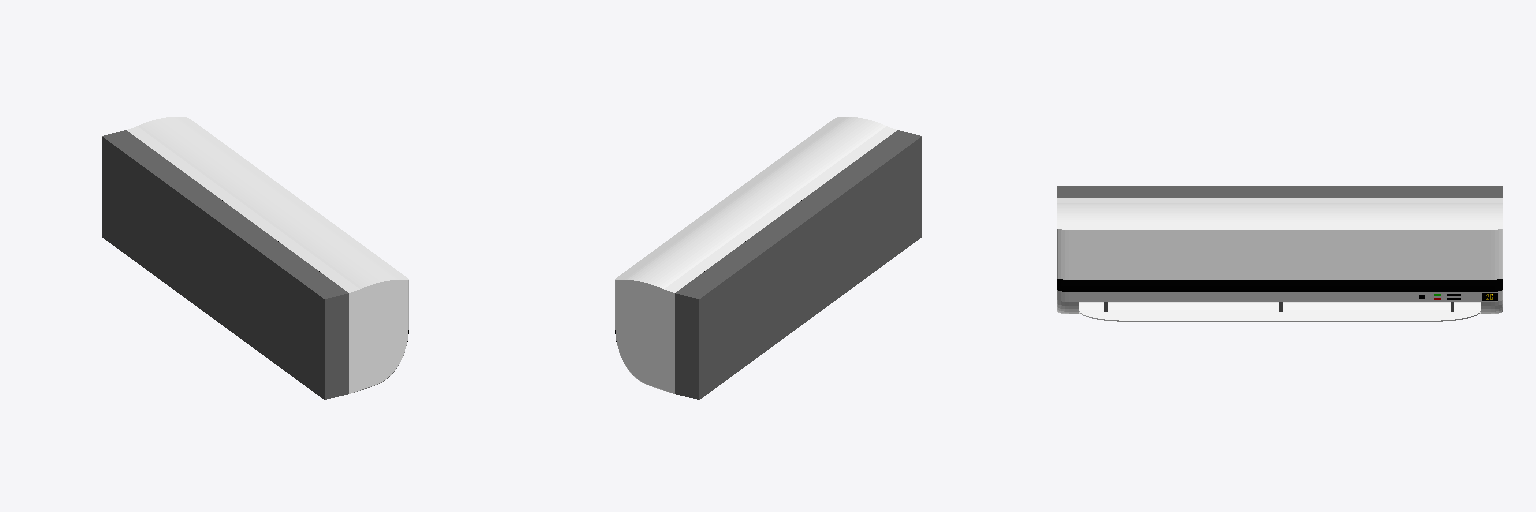
The model's file is ArCondicionado.obj.
The picture shows the model from 3 angles: view 1: azimuth 30°, elevation 25°; view 2: azimuth 150°, elevation 25°; view 3: azimuth 270°, elevation 25°; orthographic projection.
Visible parts, largest first — view 1: Plane.001_Gray_0, Plane_White_0; view 2: Plane.001_Gray_0, Plane_White_0; view 3: Plane_White_0, Plane.002_White_0, Plane_Black_0, Plane.001_Gray_0.
Part boxes in pixels (x1,y1,x2,y2): Plane.001_Gray_0: (102, 130, 348, 399); Plane_White_0: (127, 117, 408, 393); Plane.001_Gray_0: (675, 130, 921, 399); Plane_White_0: (615, 117, 896, 393); Plane_White_0: (1057, 198, 1502, 313); Plane.002_White_0: (1079, 303, 1480, 321); Plane_Black_0: (1057, 279, 1502, 291); Plane.001_Gray_0: (1057, 186, 1502, 197).
Bounding box in the file's own units: 1.54 × 1.79 × 6.95.